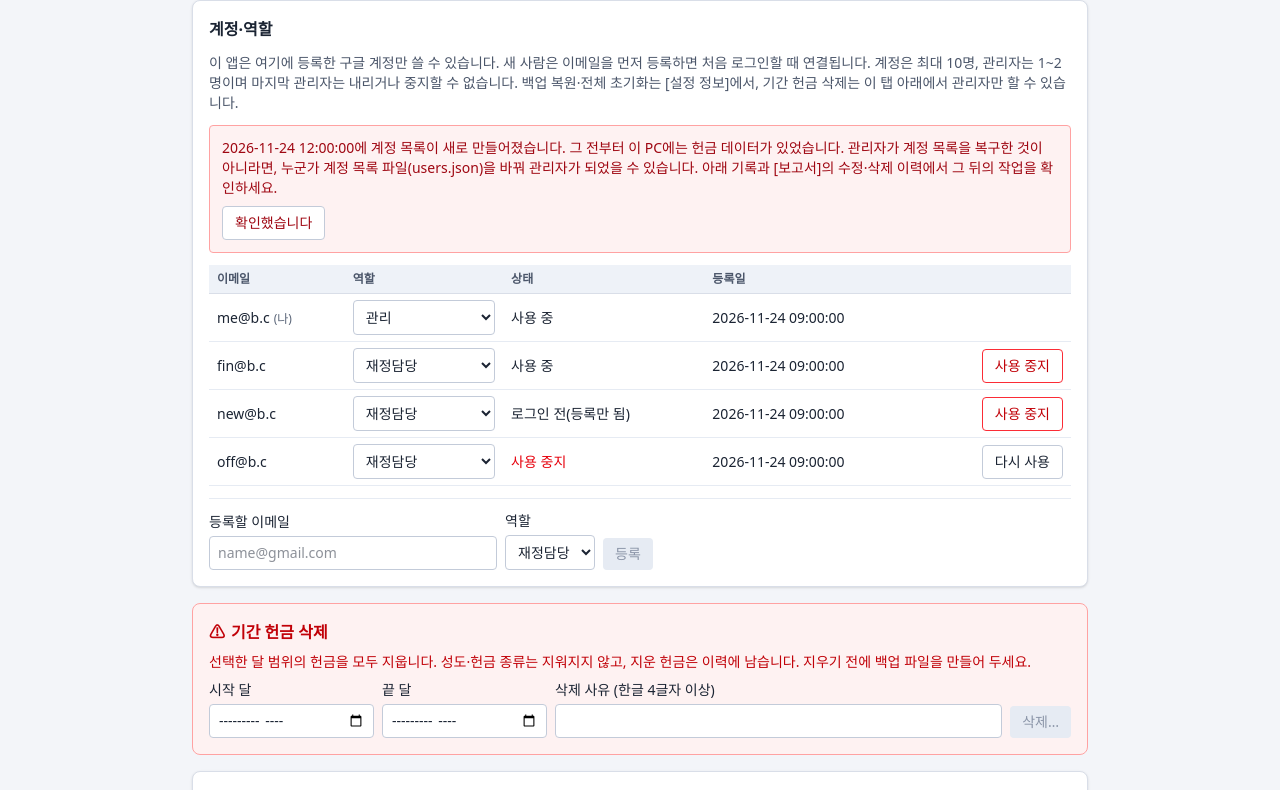
관리자 탭 › 계정 목록이 새로 만들어졌으면 경고를 보이고, [확인했습니다]를 누르면 사라진다
Expected: the message shows "계정 목록이 새로 만들어졌습니다", [222,138,1053,197]
Click the button "확인했습니다": (274, 223) [222,206,325,240]
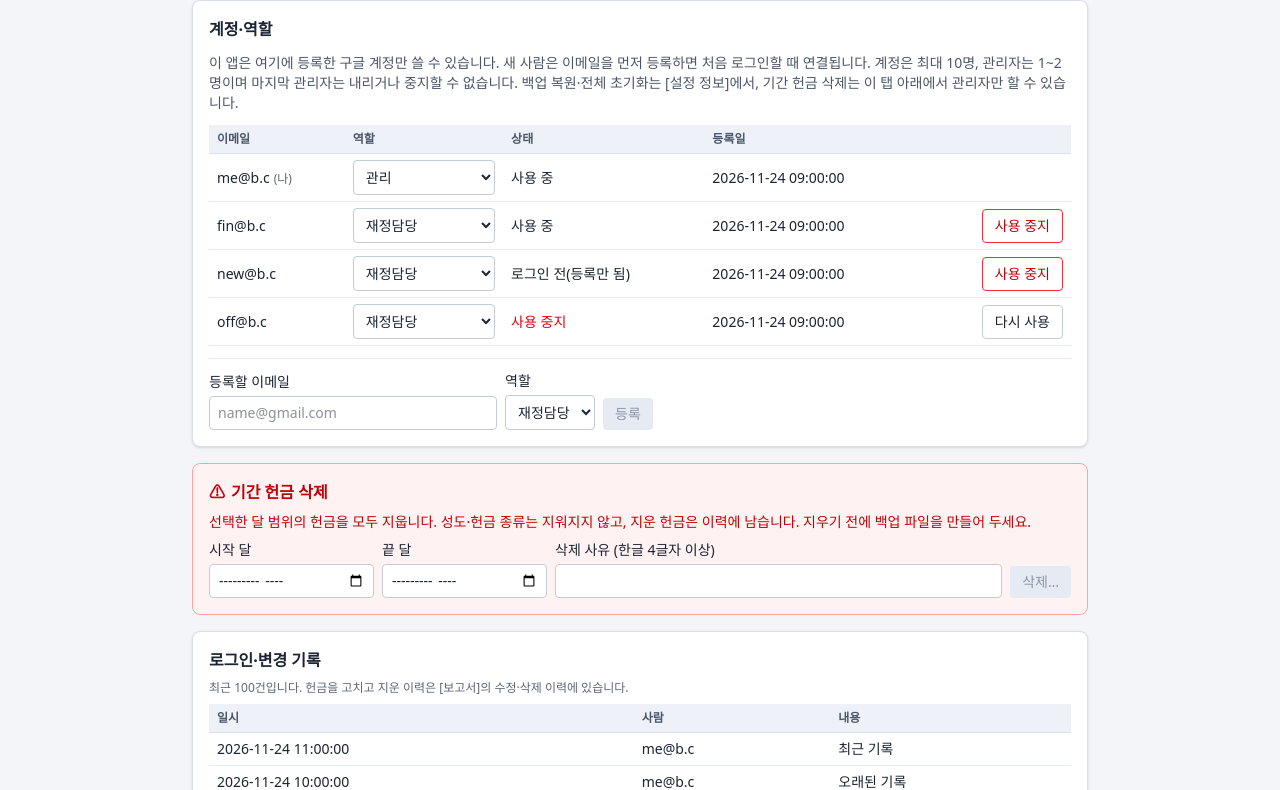
Expected: the message "2026-11-24 12:00:00에 계정 목록이 새로 만들어졌습니다. 그 전부터 이 PC에는 헌금 데이터가 있었습니다. 관리자가 계정 목록을" is gone
